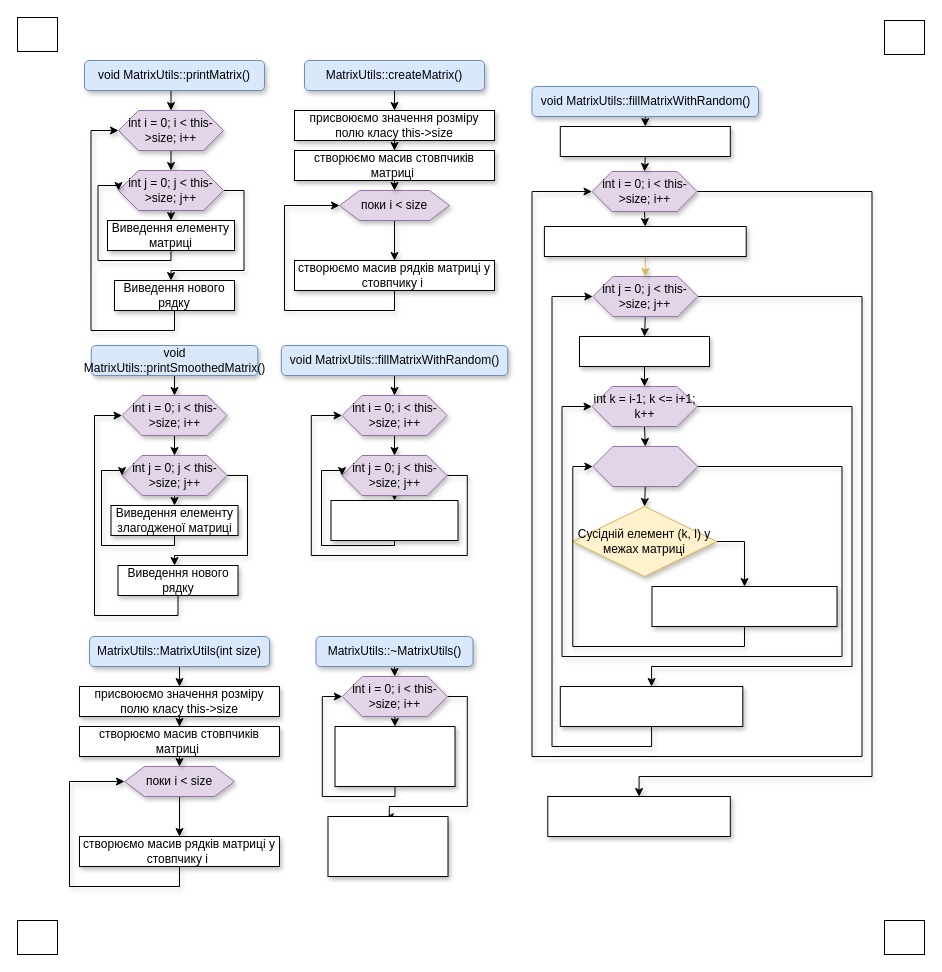
Some shapes in this 942 by 972 pixel diagram are drawn without their labels. Here are the shapes that lost their labels. From the top down, the centre of each, then its label:
the point at 645,143: створення масиву стовпців злагодженої матриці
the point at 645,243: створення масиву рядків злагодженої матриці у стовпцю [i]
the point at 645,353: сумма сусідів = 0; кількість сусідів = 0;
the point at 646,468: int l = j-1; l <= j+1; l++
the point at 395,522: Присвоєння комірці матриці випадкового значення між 0 та 76
the point at 745,608: кількість сусідів ++ сума сусідів + this->matrix[k][l]
the point at 652,708: smoothed_matrix[i][j] = сума сусідів / кількість сусідів
the point at 395,758: Видалення масиву рядків матриці у стопчику [i] та злагодженої матриці
the point at 639,818: Присвоєння вказівника на злагоджену матрицю полю класа
the point at 388,848: Видалення масиву стовпчиків матриці та злагодженої матриці
